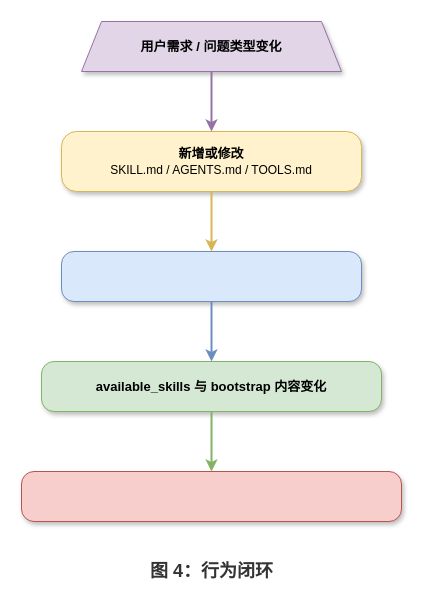
This 425x609 diagram has some shape labels left out. Each missing label, with the centre of its shape:
watcher / snapshot version 刷新: the point at 212,277
未来相似任务采用新的步骤、工具和约束: the point at 212,497
